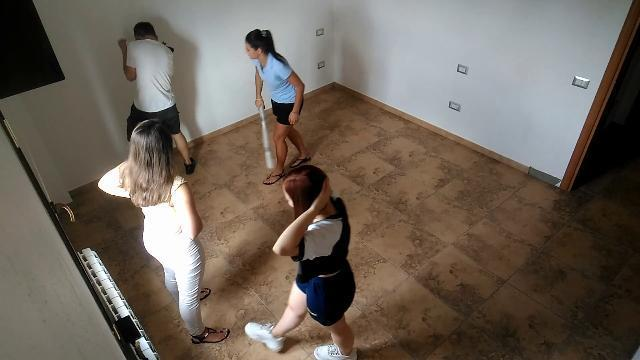non-violence: (114, 118, 232, 348), (242, 164, 360, 358), (115, 21, 199, 178)
violence: (242, 27, 314, 187)
